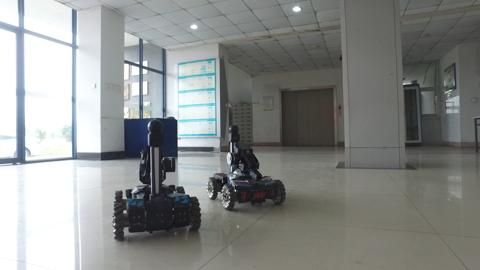chariot: (103, 116, 205, 245), (205, 116, 291, 217)
